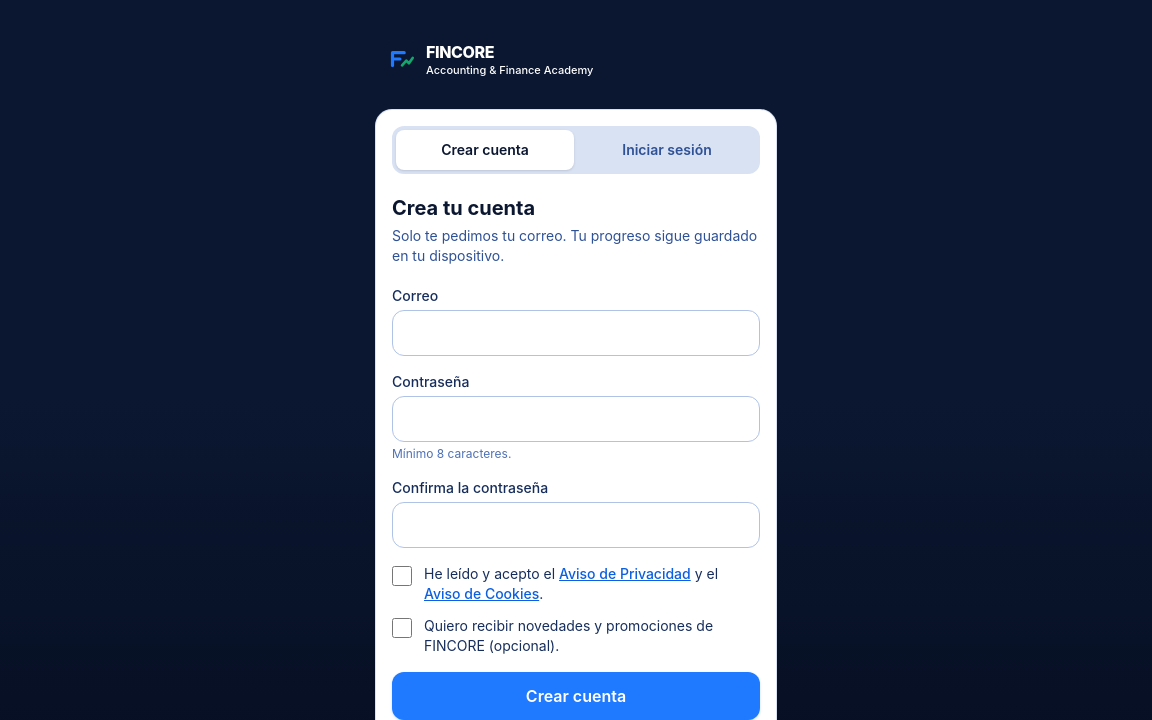
AuthScreen › shows validation errors and does not call the server
Click the button "Crear cuenta" at (576, 696), box left=392, top=672, right=760, bottom=719
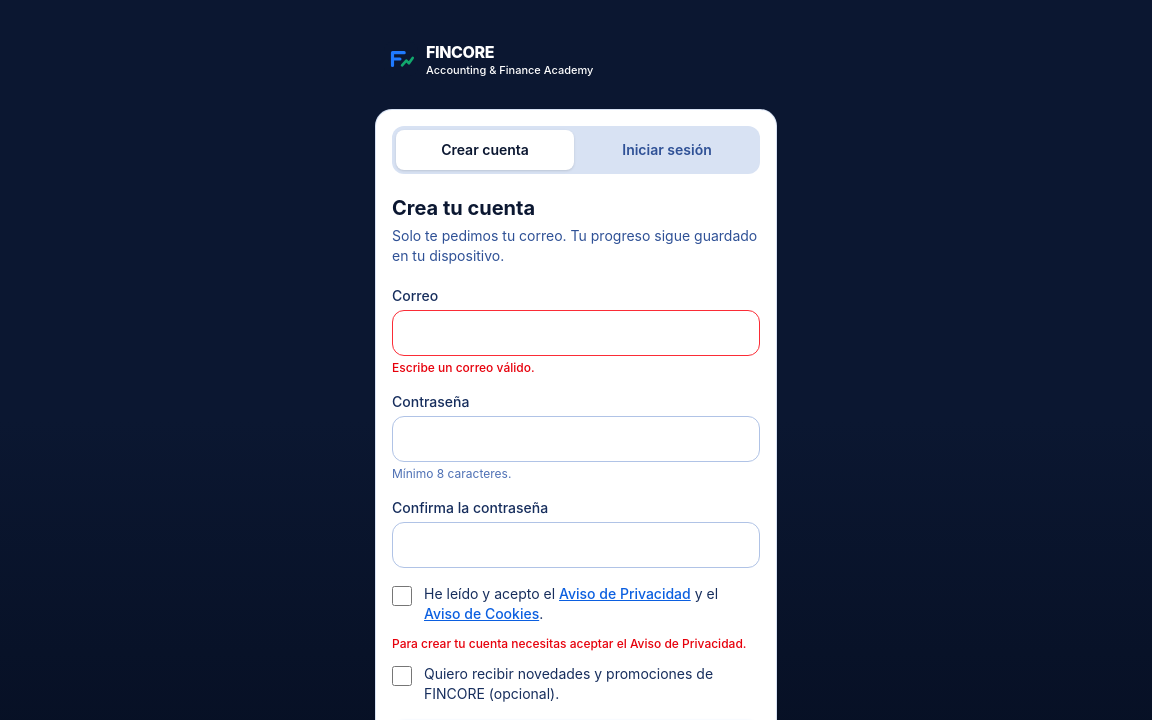
Now the text "Escribe un correo válido." is shown, box left=392, top=360, right=534, bottom=375
